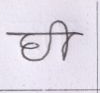i_matra: (53, 19, 72, 61)
